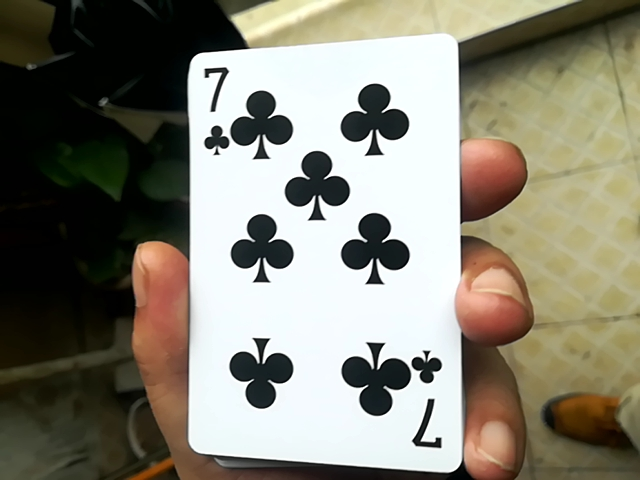mh 7: (178, 27, 472, 468)
